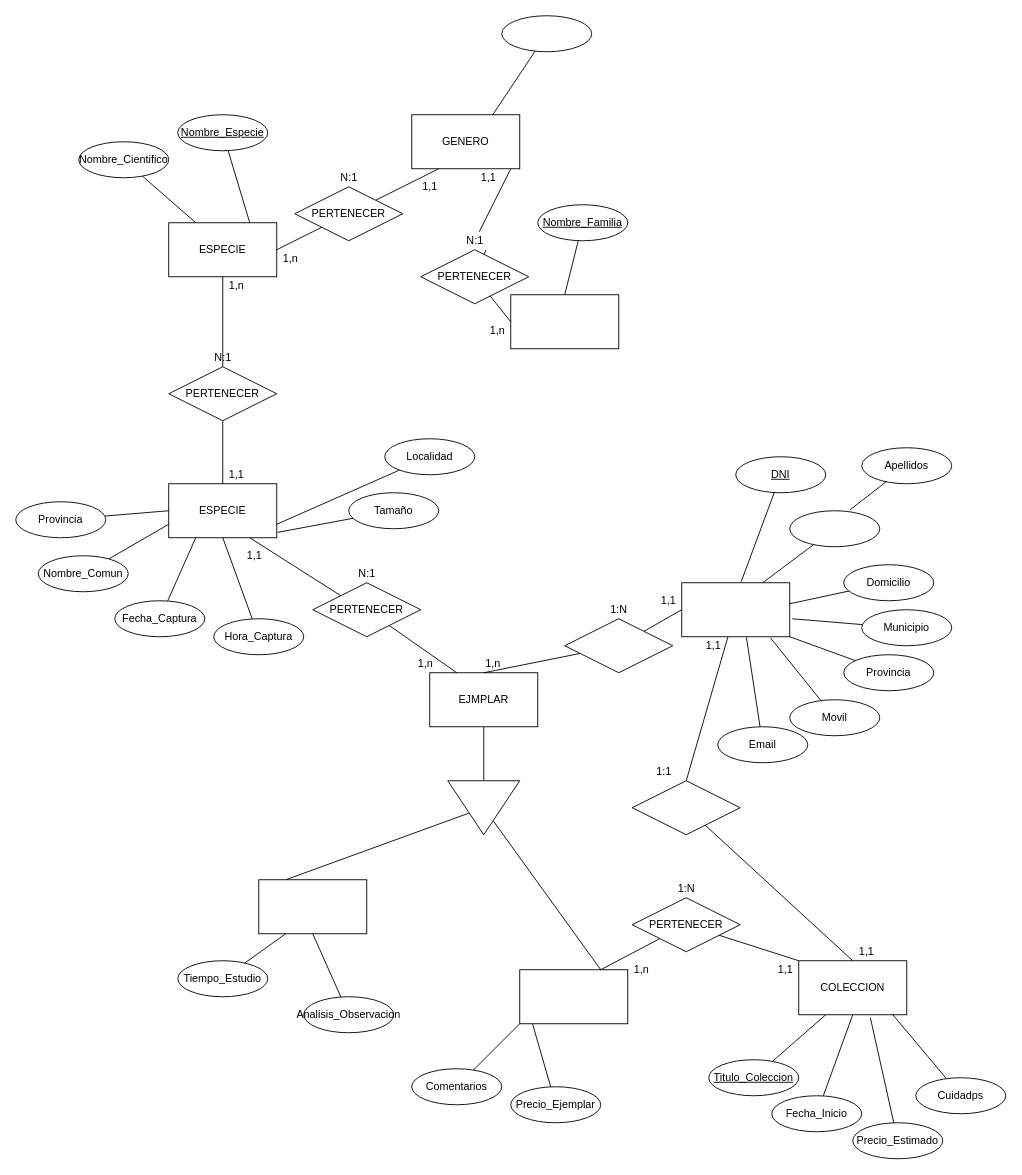
Some shapes in this 1022 by 1175 pixel diagram are drawn without their labels. Here are the shapes that lost their labels. From the top down, the centre of each, then its label:
At pixel 546 33: "Nombre_Genero".
At pixel 564 321: "FAMILIA".
At pixel 834 528: "Nombre".
At pixel 735 609: "PERSONA".
At pixel 618 645: "CAPTURAR".
At pixel 685 807: "CONTENER".
At pixel 312 906: "OBSERVAR".
At pixel 573 996: "COLECCIONAR".
